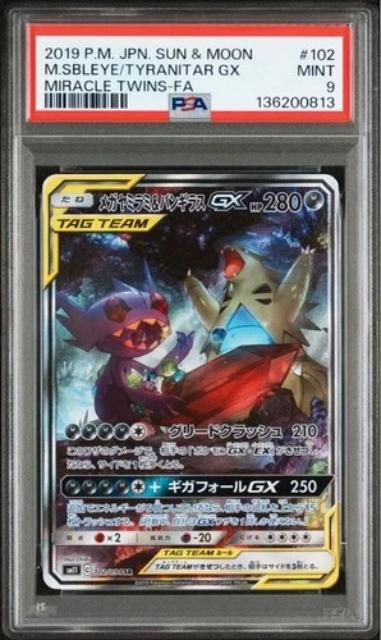Card: (36, 168, 345, 594)
Name: (96, 188, 257, 216)
